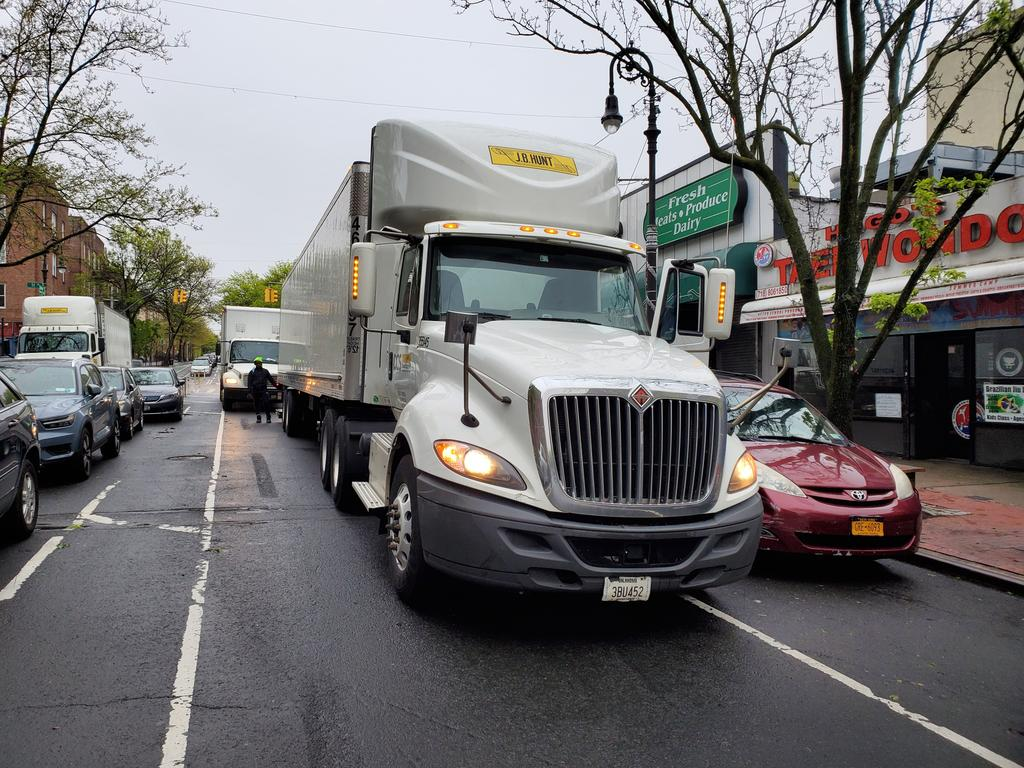building: (782, 157, 1024, 467), (1, 172, 125, 310)
car: (711, 367, 926, 562), (23, 356, 114, 489), (123, 354, 186, 434)
sky: (122, 1, 619, 224)
street: (1, 414, 1008, 768)
truck: (266, 113, 766, 630)
